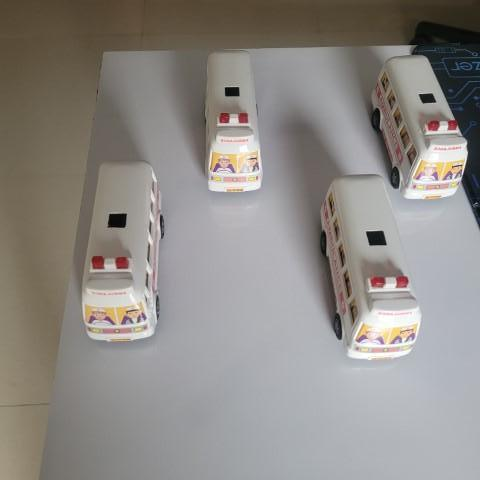ambulance: (310, 165, 423, 369), (82, 155, 170, 346), (367, 47, 471, 202), (197, 45, 270, 198)
